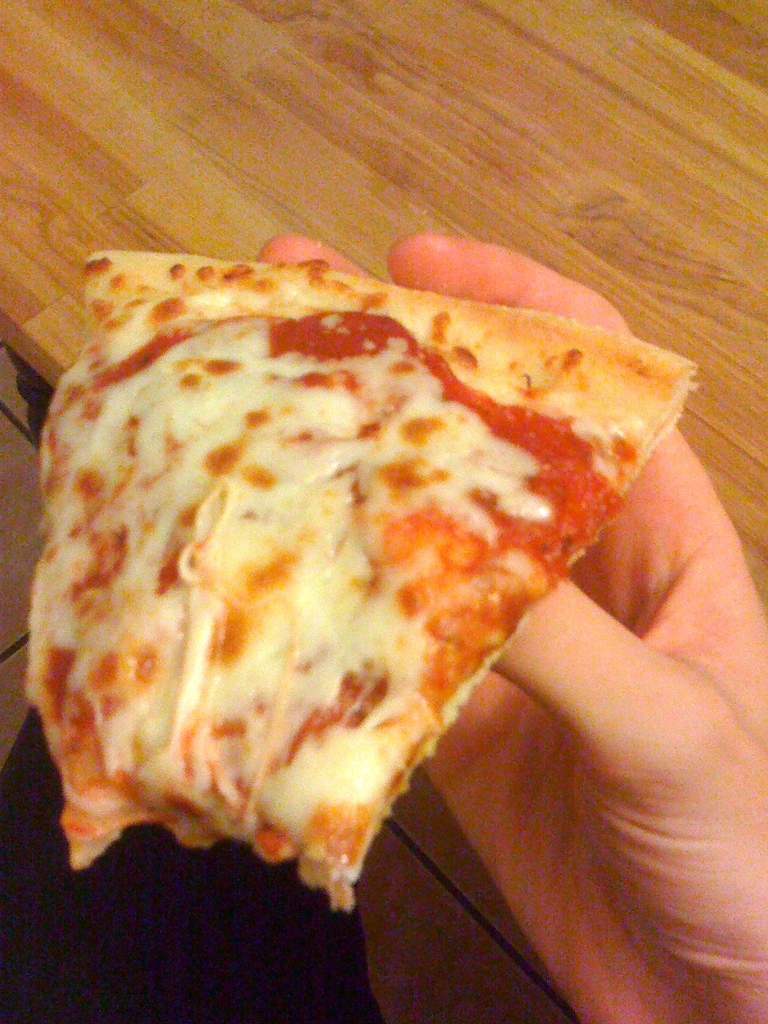Pizza: (30, 190, 698, 990)
